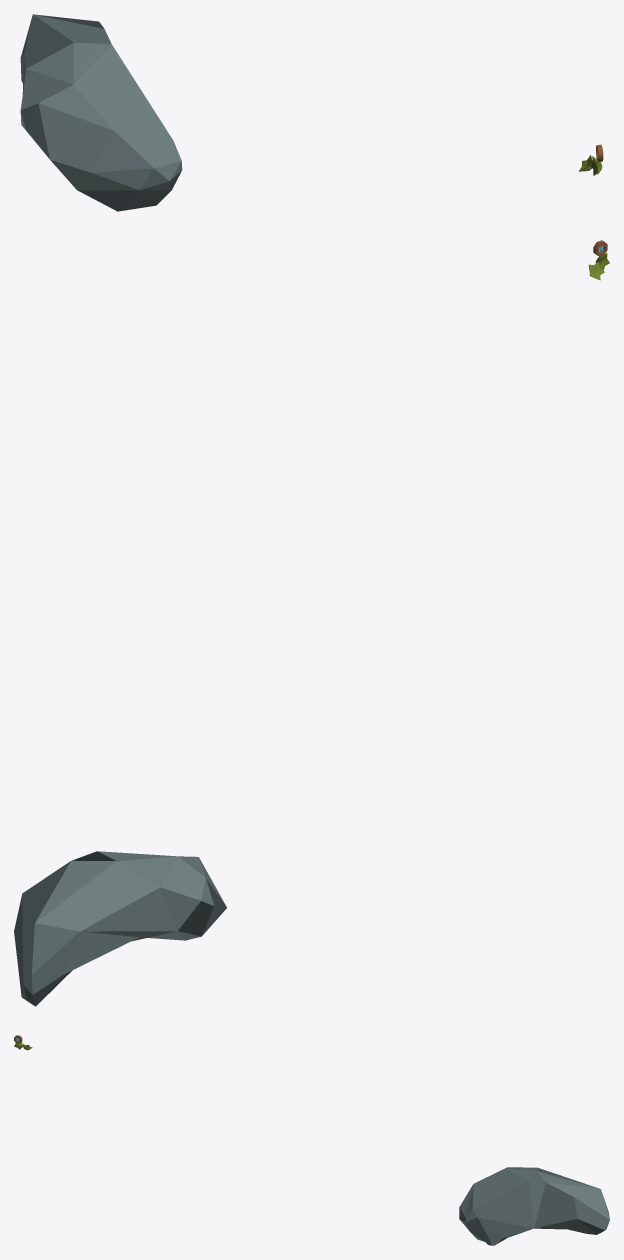
3 renders of one model, top to bottom at view 1: azimuth 30°, elevation 25°; view 2: azimuth 150°, elevation 25°; view 3: azimuth 270°, elevation 25°, orthographic. The views are drawn at different scales.
Visible parts, largest first — view 1: Box164_rock_0; view 2: Box164_rock_0; view 3: Box164_rock_0.
Part boxes in pixels (box(x1,y1,x2,y2)): Box164_rock_0: box(20, 14, 182, 211); Box164_rock_0: box(14, 851, 226, 1006); Box164_rock_0: box(459, 1167, 609, 1245).
Bounding box in the file's own units: 705 × 1873 × 5059.
